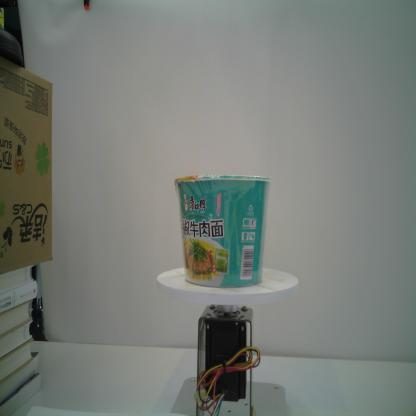Instant Noodles: (174, 172, 271, 288)
